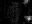person: (23, 0, 28, 6), (27, 14, 31, 19)
